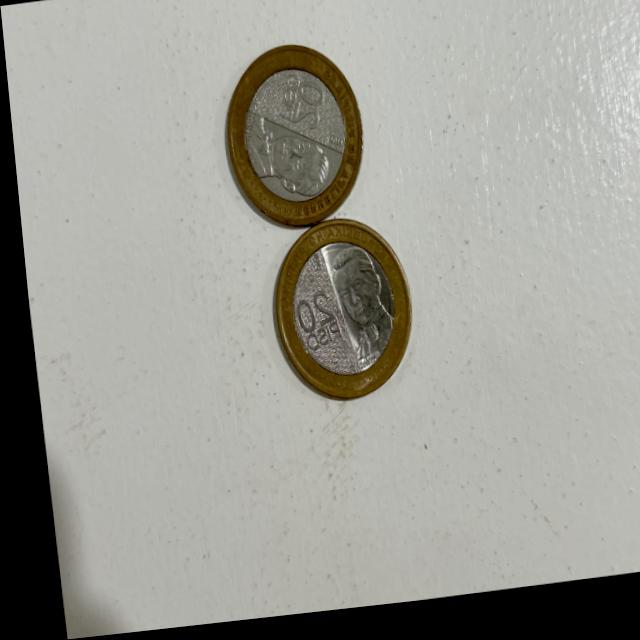20_New_Front: (287, 80, 326, 135), (285, 296, 332, 341)
